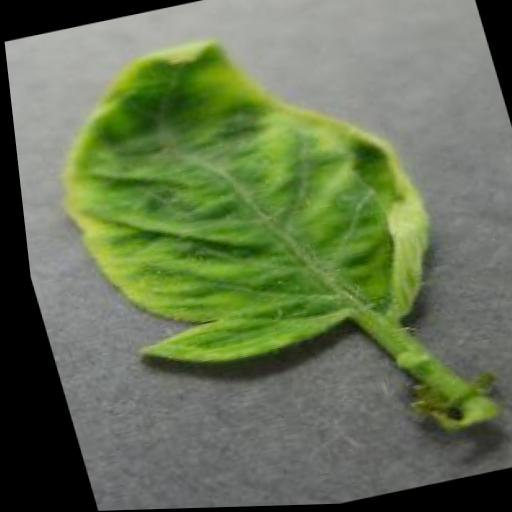Yellow Leaf Curl Virus: (17, 0, 459, 392)
